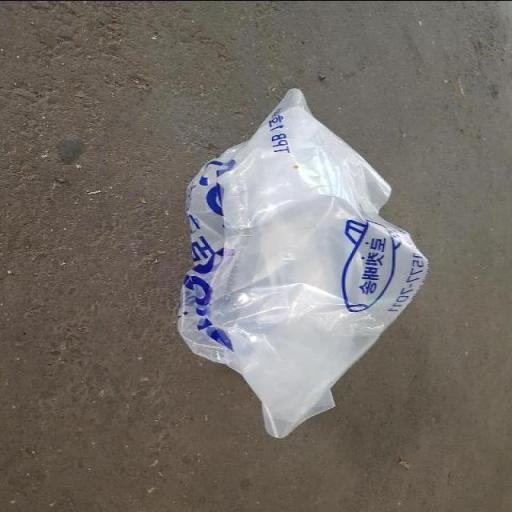plastic-bag: (176, 83, 432, 443)
